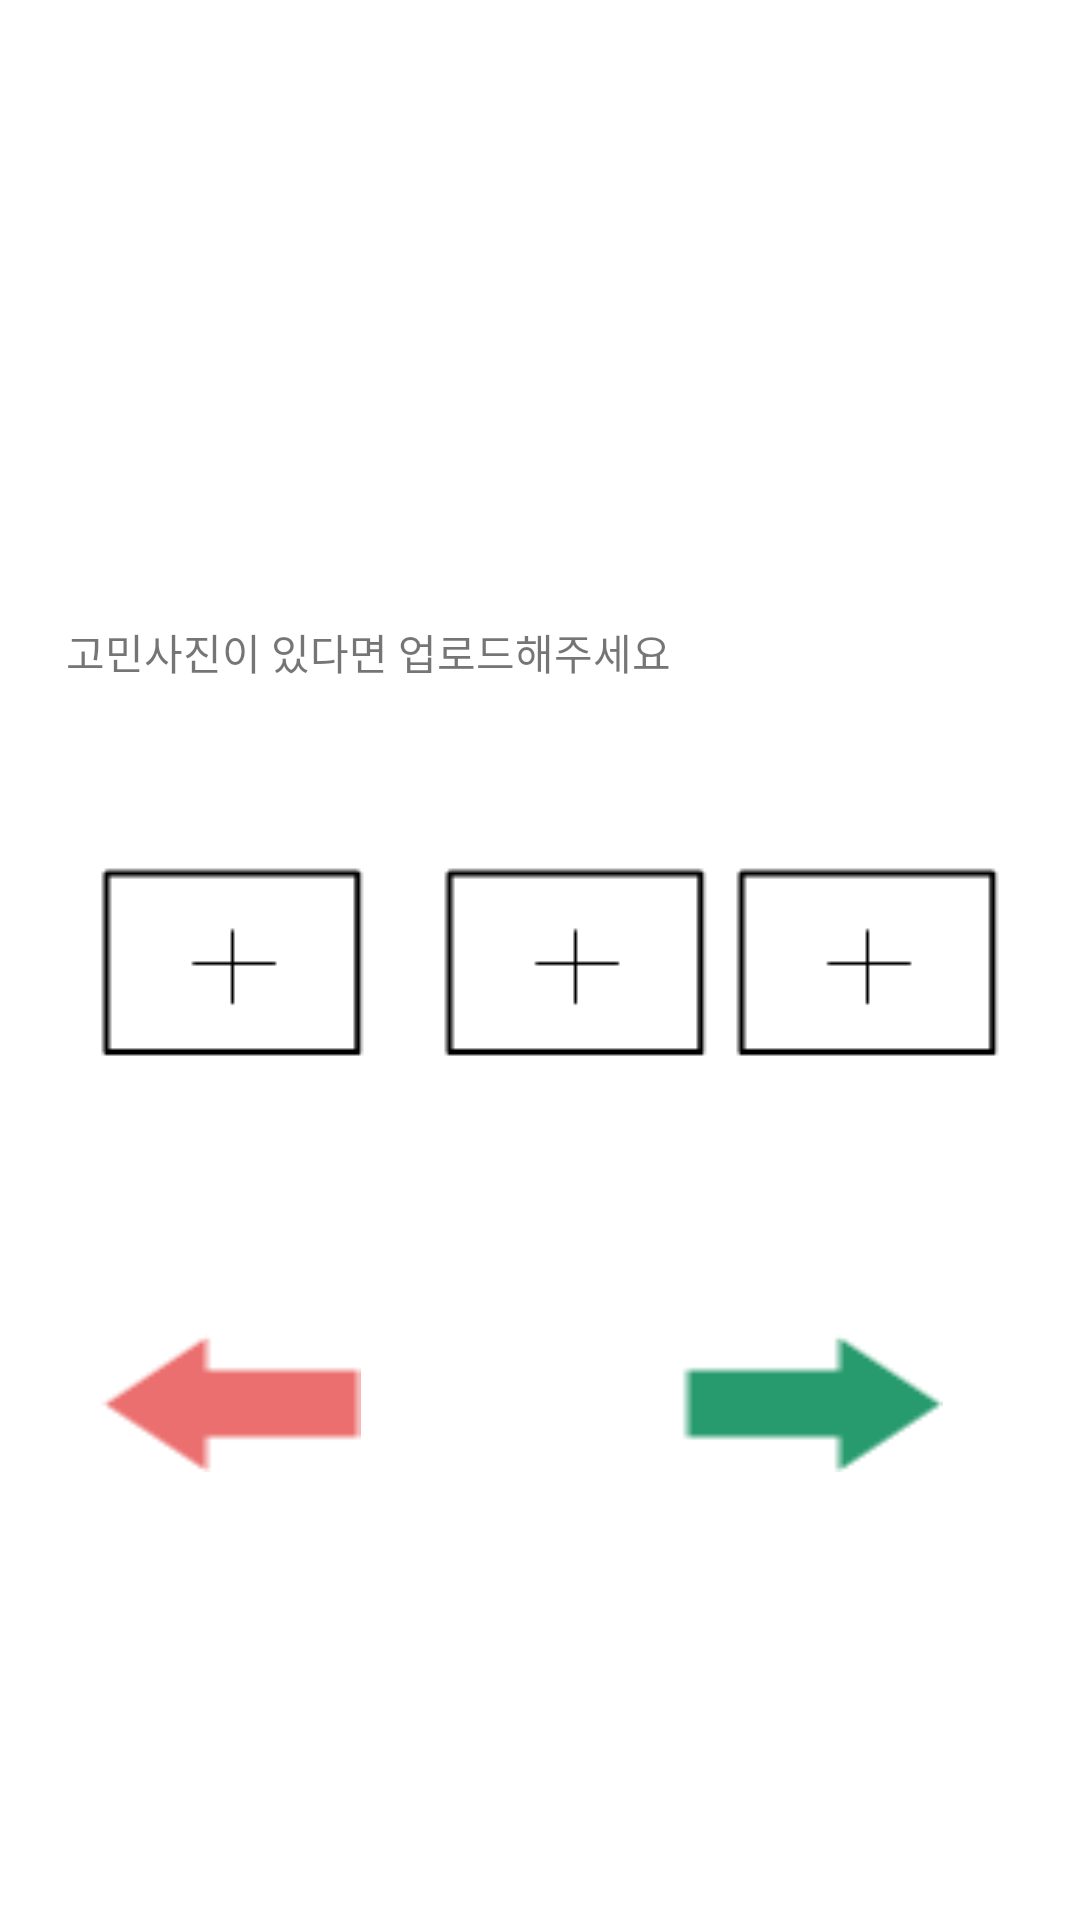

Where to tap for icons on this 1080 x 1920 app screen, as point (x, y):
before: point (232, 1405)
next: point (813, 1405)
pictureupload: point (232, 962), point (575, 962), point (867, 962)
